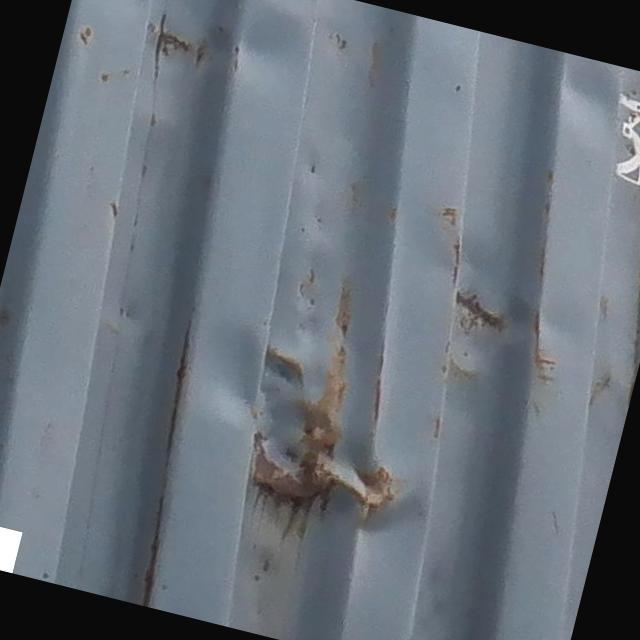rust: (222, 345, 464, 548)
